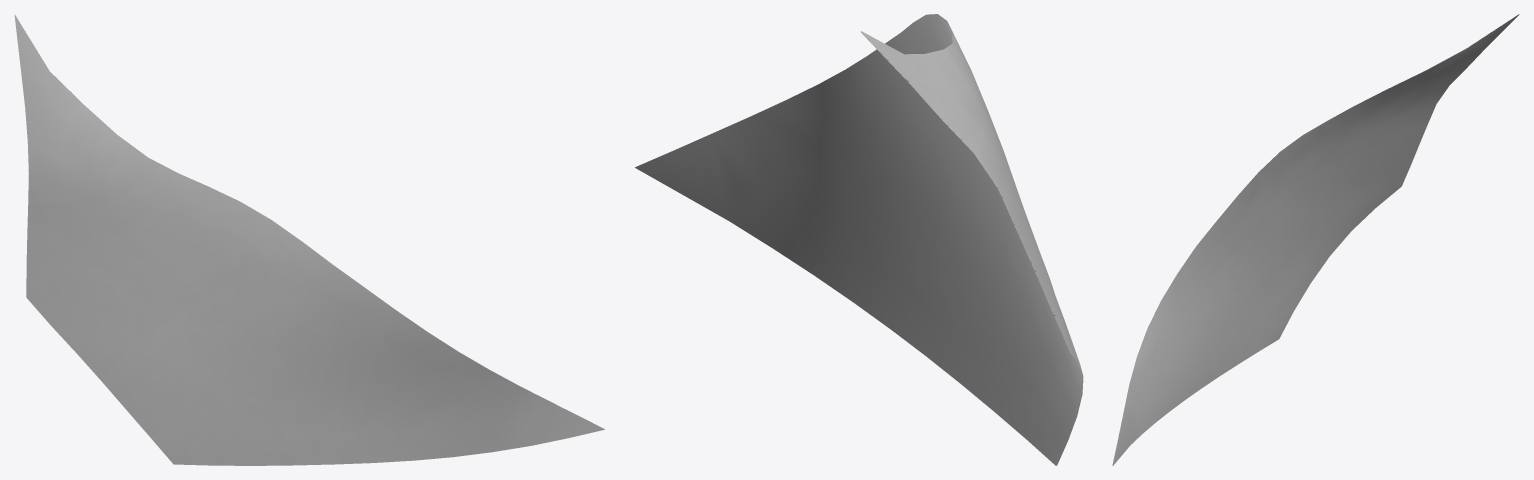
Rendered from Jac_Decor_Pocket_LEFT_V2.glb.
3 views of the same model, side by side, from view 1: azimuth 30°, elevation 25°; view 2: azimuth 150°, elevation 25°; view 3: azimuth 270°, elevation 25° (orthographic). The views are drawn at different scales.
Parts seen in each view (by area): view 1: Jac_Decor_Pocket_LEFT_V21; view 2: Jac_Decor_Pocket_LEFT_V21; view 3: Jac_Decor_Pocket_LEFT_V21.
Boxes of the visible parts, <box> form: Jac_Decor_Pocket_LEFT_V21: <box>14,14,604,465</box>; Jac_Decor_Pocket_LEFT_V21: <box>635,14,1083,465</box>; Jac_Decor_Pocket_LEFT_V21: <box>1112,14,1519,465</box>.
Bounding box in the file's own units: 0.085 × 0.0696 × 0.0815.
1 material, 1 textured.
